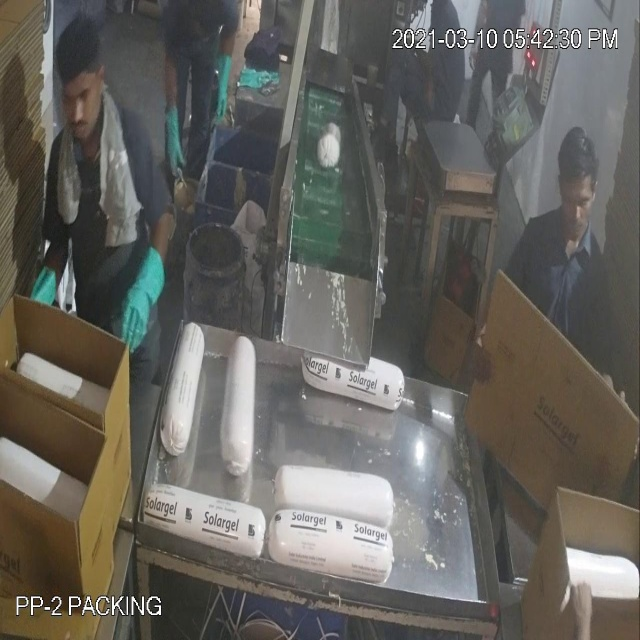Guantes: (111, 225, 176, 358), (160, 92, 189, 184), (208, 44, 237, 131)
